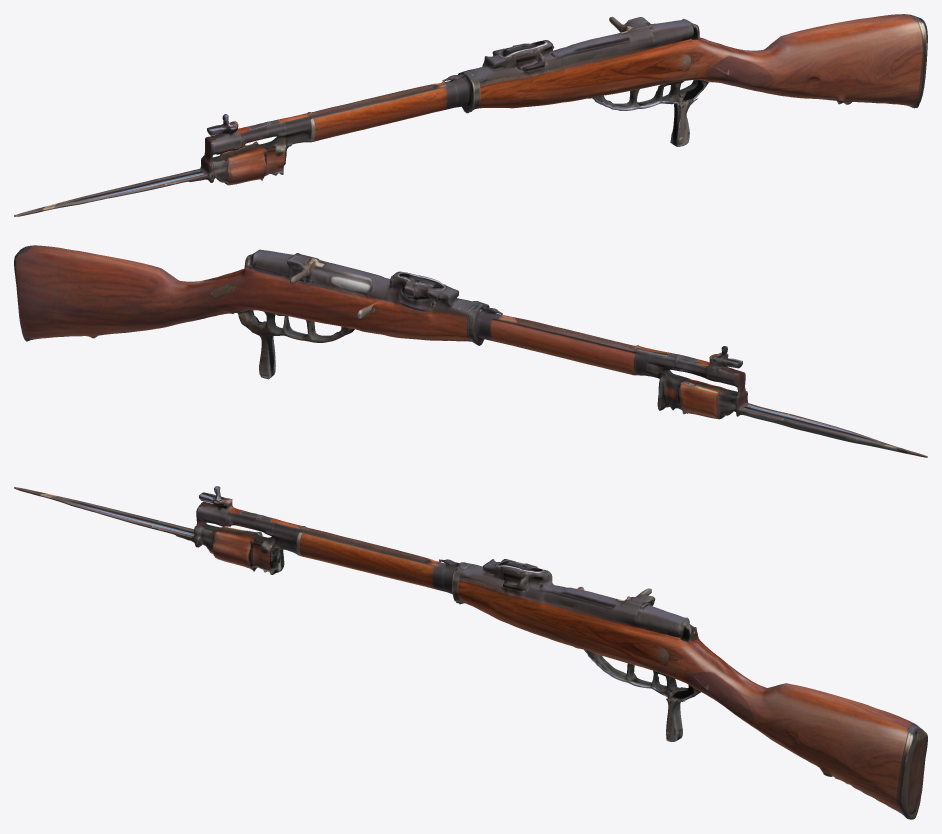
Rendered from mosin_rifle.glb.
3 views of the same model, one above another, from view 1: azimuth 30°, elevation 25°; view 2: azimuth 150°, elevation 25°; view 3: azimuth 330°, elevation 25° (orthographic).
Bounding box in the file's own units: 2 × 0.3416 × 0.1285.
1 material, 1 textured.
